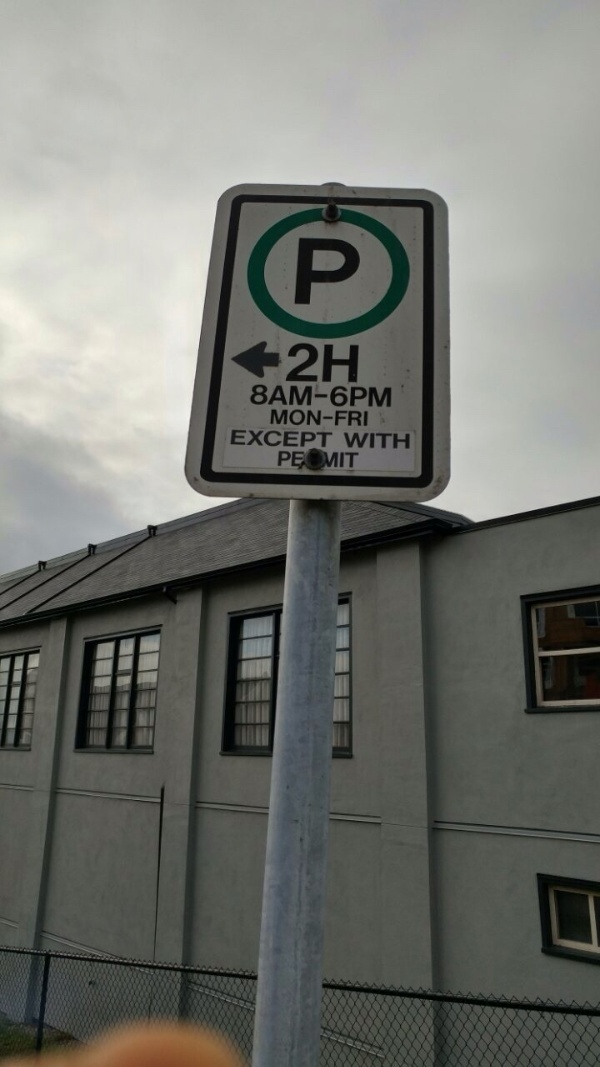text: (305, 237, 320, 306), (321, 237, 336, 306), (337, 237, 352, 306), (305, 343, 320, 383), (321, 343, 336, 383), (337, 343, 352, 383), (290, 343, 304, 383), (353, 237, 361, 306), (257, 384, 272, 408), (273, 384, 288, 408), (289, 384, 304, 408), (305, 384, 320, 408), (321, 384, 336, 408), (337, 384, 352, 408), (353, 384, 368, 408), (369, 384, 384, 408), (299, 237, 304, 306), (241, 428, 256, 448), (257, 428, 272, 448), (273, 428, 288, 448), (289, 428, 304, 448), (305, 428, 320, 448), (289, 450, 304, 470), (305, 450, 320, 470), (321, 450, 336, 470), (337, 450, 352, 470), (353, 408, 369, 426), (353, 431, 368, 450), (369, 431, 384, 450), (385, 431, 400, 450), (353, 343, 360, 383), (273, 408, 288, 426), (289, 408, 304, 426), (305, 408, 320, 426), (321, 408, 336, 426), (337, 408, 352, 426), (321, 428, 333, 448), (341, 431, 352, 450), (401, 431, 412, 450), (278, 450, 288, 470), (231, 428, 240, 448), (385, 384, 392, 408), (353, 450, 361, 470), (251, 384, 256, 408), (271, 408, 272, 426)
